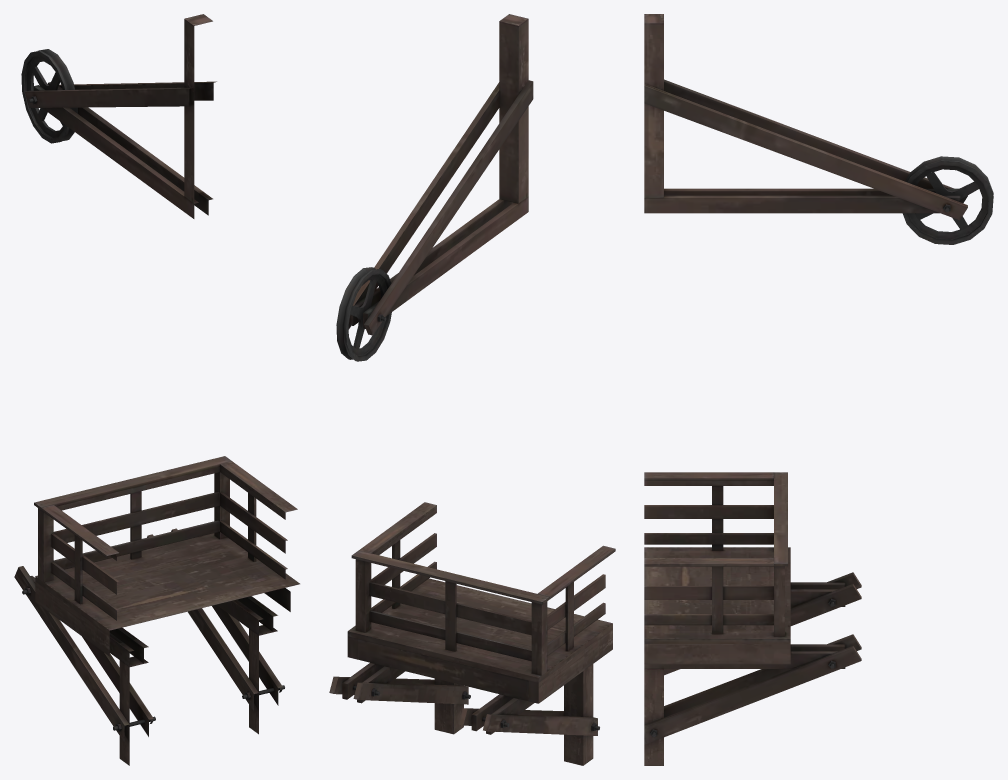
3 renders of one model, left to right at view 1: azimuth 30°, elevation 25°; view 2: azimuth 150°, elevation 25°; view 3: azimuth 270°, elevation 25°, orthographic.
Parts seen in each view (by area): view 1: body0_model0_lod0_mesh0; view 2: body0_model0_lod0_mesh0; view 3: body0_model0_lod0_mesh0.
Part boxes in pixels (x1,y1,x2,y2): body0_model0_lod0_mesh0: [14, 14, 299, 765]; body0_model0_lod0_mesh0: [329, 14, 615, 765]; body0_model0_lod0_mesh0: [644, 14, 993, 765].
Size of the model in its own units: 156 by 558 by 248.
1 material, 1 textured.
